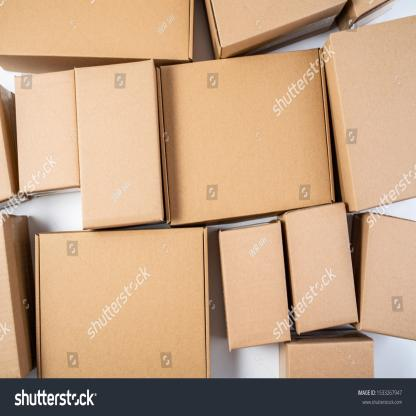box: (157, 49, 335, 227), (35, 229, 210, 381), (329, 14, 416, 211), (76, 59, 164, 232), (0, 0, 190, 60), (285, 204, 359, 331), (220, 221, 291, 348), (15, 70, 79, 194), (358, 214, 416, 339)
